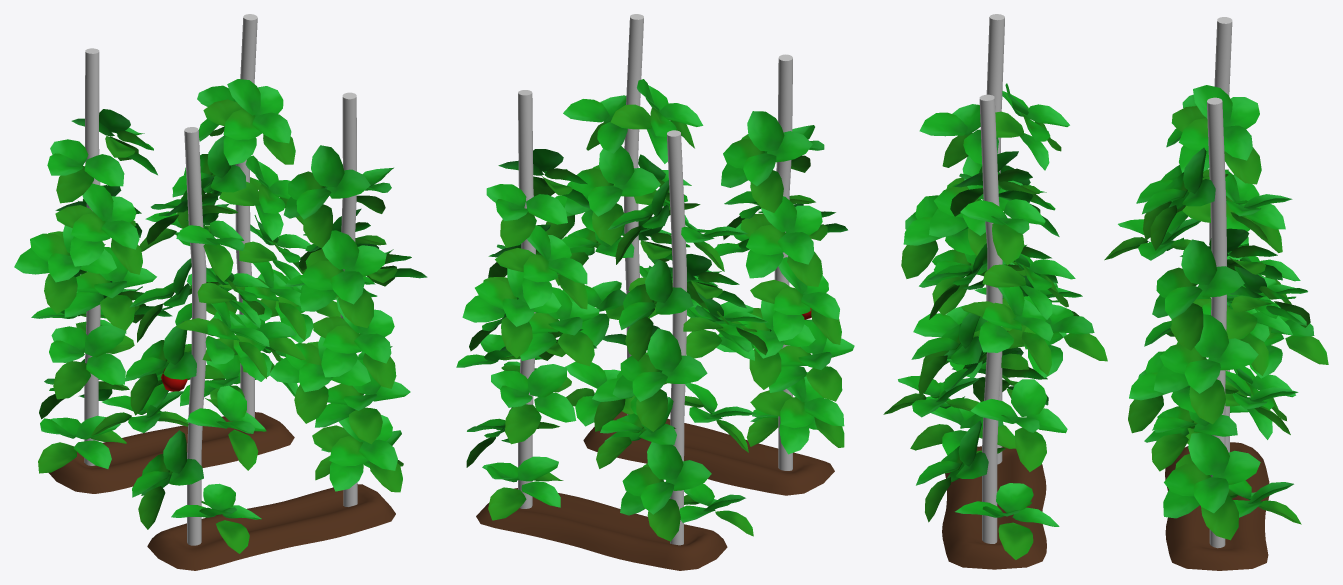
Rendered from Tomato5.fbx.
3 renders of one model, left to right at view 1: azimuth 30°, elevation 25°; view 2: azimuth 150°, elevation 25°; view 3: azimuth 270°, elevation 25°, orthographic. The views are drawn at different scales.
Parts seen in each view (by area): view 1: 4.001; view 2: 4.001; view 3: 4.001.
Boxes of the visible parts, left/top/right/bottom form: 4.001: left=14, top=14, right=427, bottom=570; 4.001: left=456, top=14, right=854, bottom=570; 4.001: left=883, top=14, right=1328, bottom=570.
Bounding box in the file's own units: 367 × 470 × 421.
